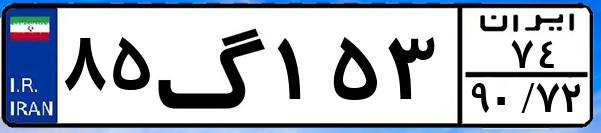0: (495, 70, 520, 125)
1: (270, 28, 330, 110)
2: (560, 70, 590, 125)
3: (385, 28, 445, 110)
4: (537, 27, 568, 80)
5: (330, 28, 385, 110), (110, 28, 156, 98)
7: (508, 27, 537, 80), (535, 70, 560, 125)
8: (57, 26, 110, 100)
9: (470, 70, 495, 125)
گ: (156, 12, 270, 120)
